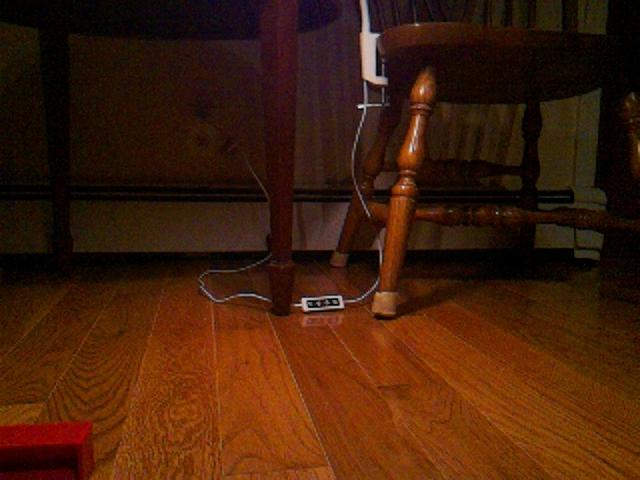red: (1, 419, 95, 480)
